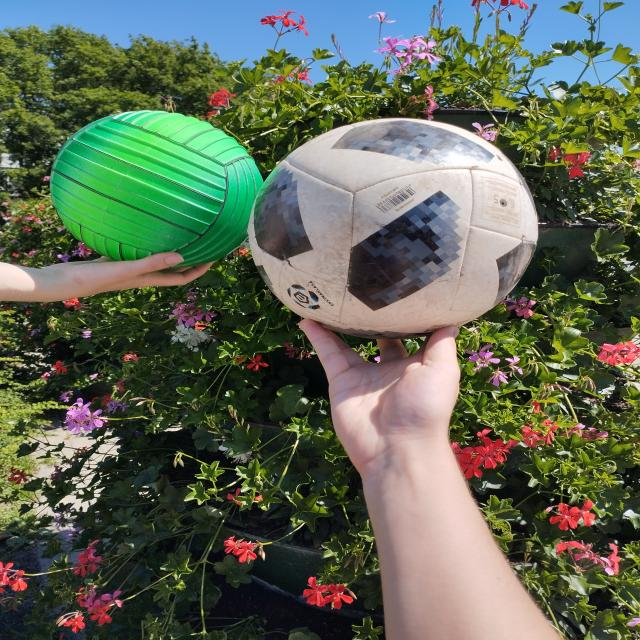nozna: (248, 118, 541, 337)
zielona: (49, 109, 266, 267)
